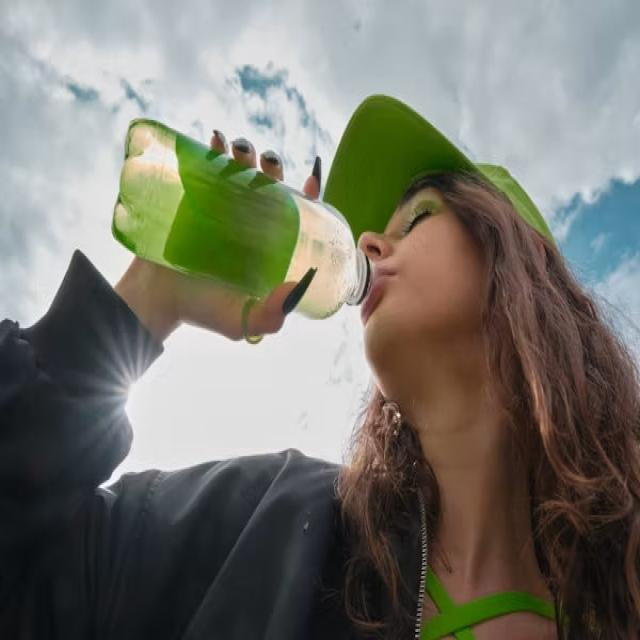Bottle: (112, 120, 373, 318)
